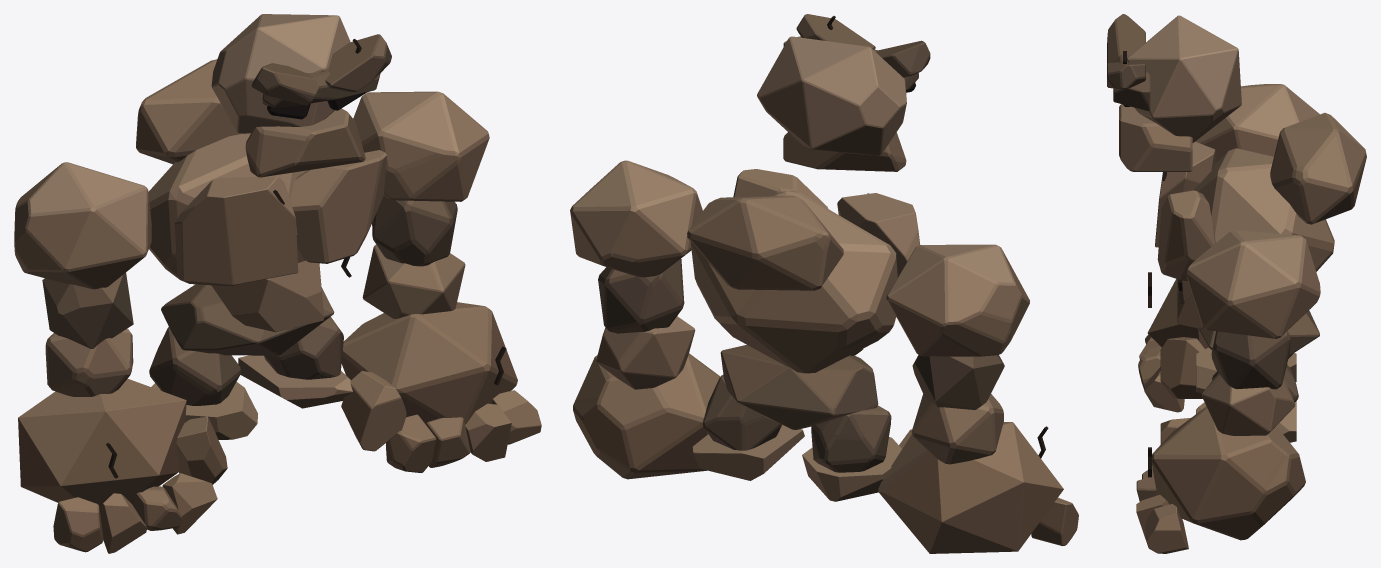
File: golem.glb
3 views of the same model, side by side, from view 1: azimuth 30°, elevation 25°; view 2: azimuth 150°, elevation 25°; view 3: azimuth 270°, elevation 25° (orthographic). The views are drawn at different scales.
Parts seen in each view (by area): view 1: corps.001, avant_bras_g, avant_bras_d, tete.001, bras_g, bras_d, jambe_g, jambe_d; view 2: corps.001, avant_bras_g, tete.001, bras_g, avant_bras_d, bras_d, jambe_g, jambe_d; view 3: corps.001, avant_bras_d, tete.001, bras_d, avant_bras_g, bras_g, jambe_g, jambe_d.
Boxes of the visible parts, box(x1,y1,x2,y2) form: corps.001: box(136, 59, 386, 355); avant_bras_g: box(18, 329, 227, 553); avant_bras_d: box(341, 244, 541, 472); tete.001: box(211, 14, 391, 177); bras_g: box(14, 162, 151, 348); bras_d: box(353, 91, 489, 266); jambe_g: box(149, 327, 257, 439); jambe_d: box(238, 316, 352, 408); corps.001: box(687, 169, 920, 429); avant_bras_g: box(878, 394, 1078, 553); tete.001: box(757, 14, 930, 171); bras_g: box(886, 244, 1029, 409); avant_bras_d: box(573, 316, 720, 479); bras_d: box(570, 160, 702, 333); jambe_g: box(802, 405, 901, 501); jambe_d: box(692, 375, 804, 480); corps.001: box(1155, 112, 1366, 355); avant_bras_d: box(1136, 373, 1305, 553); tete.001: box(1107, 14, 1241, 171); bras_d: box(1186, 230, 1320, 389); avant_bras_g: box(1138, 272, 1208, 412); bras_g: box(1195, 84, 1319, 161); jambe_g: box(1196, 347, 1296, 392); jambe_d: box(1196, 364, 1298, 442).
Size of the model in its own units: 7.38 by 7.09 by 3.88.
